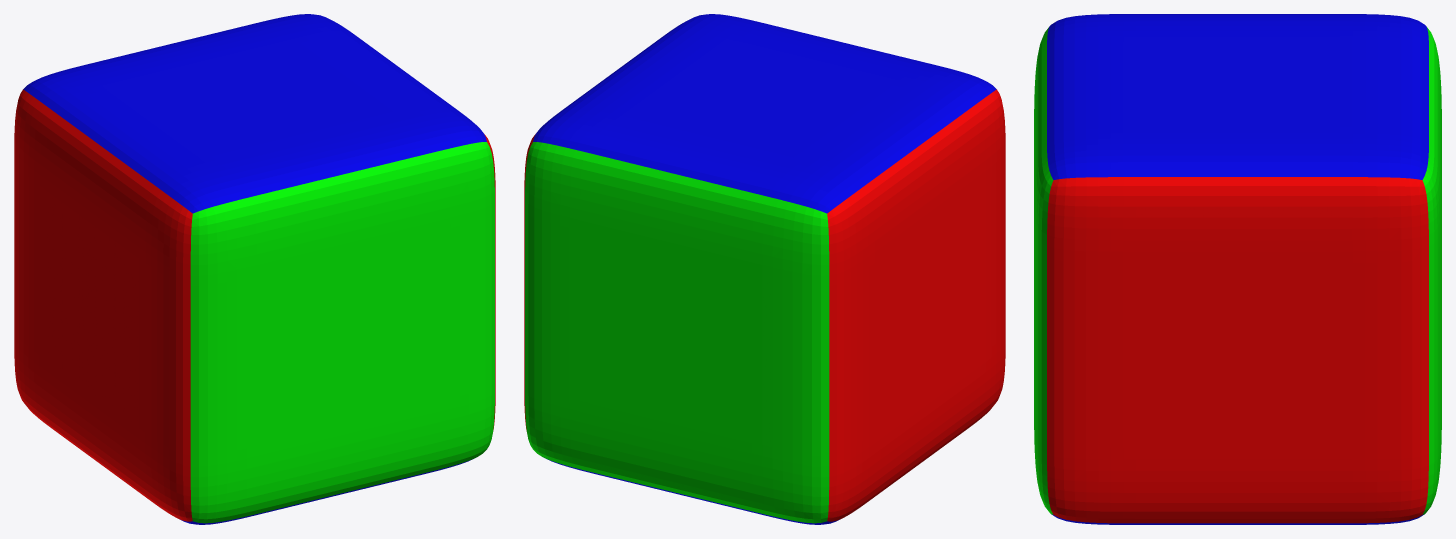
3 renders of one model, left to right at view 1: azimuth 30°, elevation 25°; view 2: azimuth 150°, elevation 25°; view 3: azimuth 270°, elevation 25°, orthographic. The views are drawn at different scales.
Visible parts, largest first — view 1: Cube; view 2: Cube; view 3: Cube.
Part boxes in pixels (x1,y1,x2,y2): Cube: (14,14,495,524); Cube: (524,14,1005,524); Cube: (1034,14,1441,524).
Size of the model in its own units: 2 by 2 by 2.
